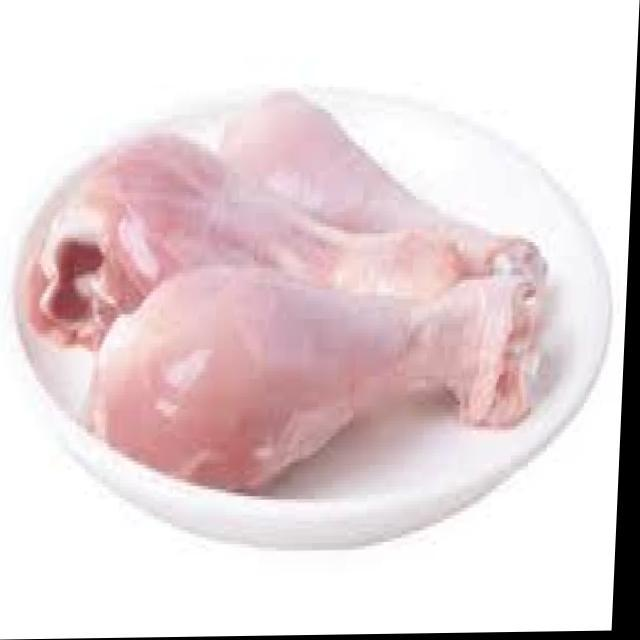leg: (29, 125, 471, 358), (89, 277, 544, 488), (208, 86, 552, 302)
